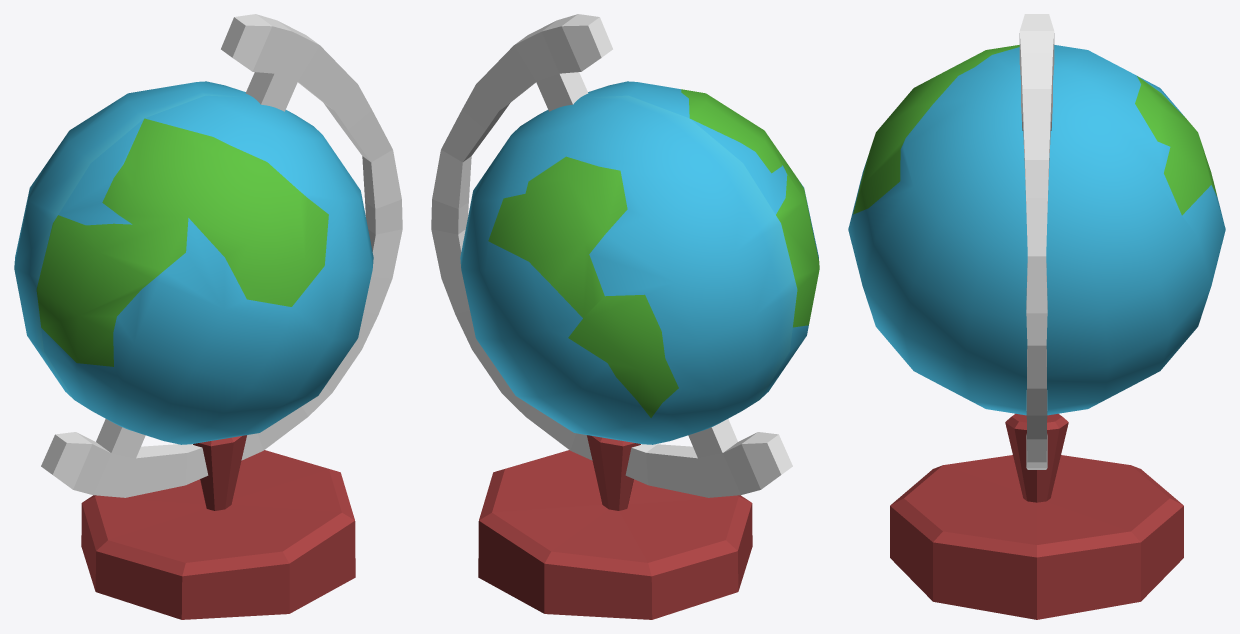
The model's file is Prop_EarthMapBall.fbx.
The picture shows the model from 3 angles, left to right: view 1: azimuth 30°, elevation 25°; view 2: azimuth 150°, elevation 25°; view 3: azimuth 270°, elevation 25°; orthographic projection. The views are drawn at different scales.
Visible parts, largest first — view 1: Prop_EarthMapBall; view 2: Prop_EarthMapBall; view 3: Prop_EarthMapBall.
Boxes of the visible parts, x1,y1,x2,y2 form: Prop_EarthMapBall: [14, 14, 402, 619]; Prop_EarthMapBall: [431, 14, 819, 619]; Prop_EarthMapBall: [848, 14, 1225, 619].
Bounding box in the file's own units: 36.09 × 51.07 × 31.51.
